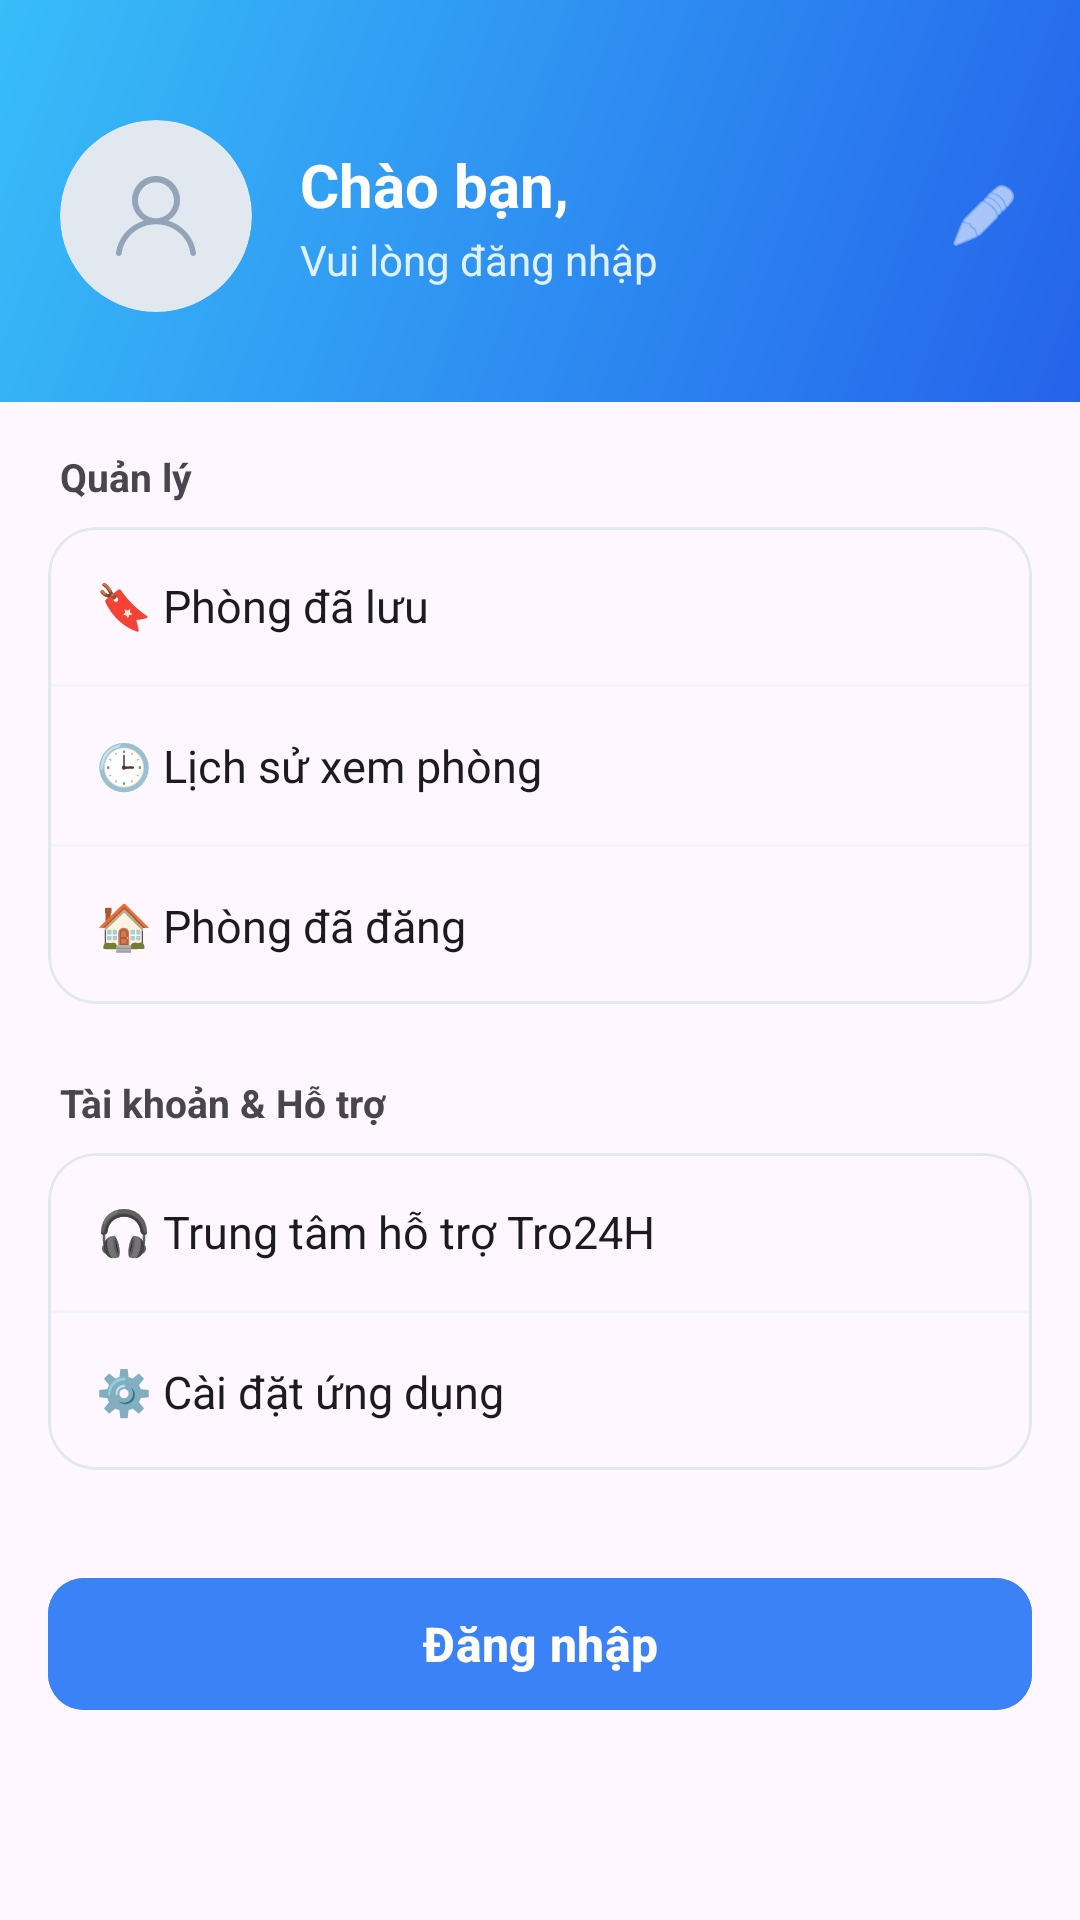

Icons on this 1080 × 1920 Android screen, each with the point to tap as (x=x, y=y):
edit: (x=983, y=215)
